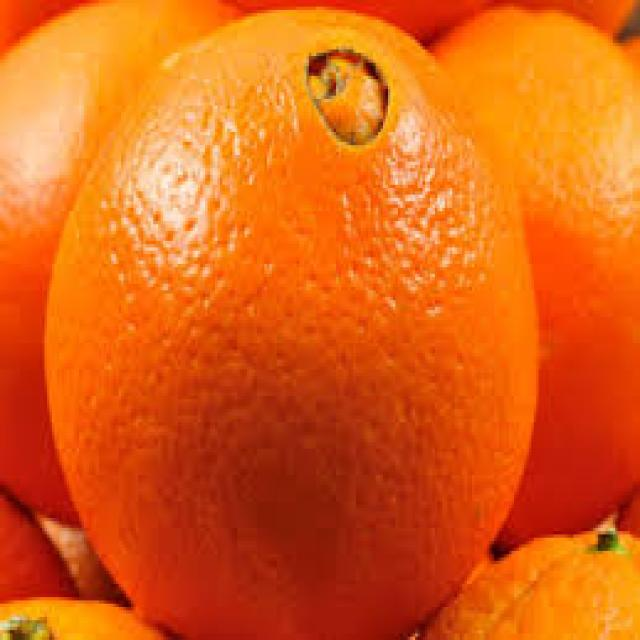orange: (41, 8, 545, 627), (418, 11, 636, 548)
